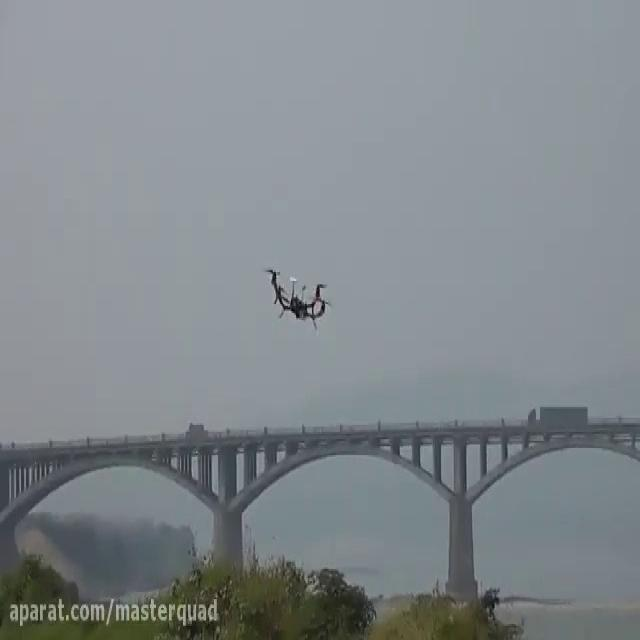drone: (258, 260, 334, 330)
